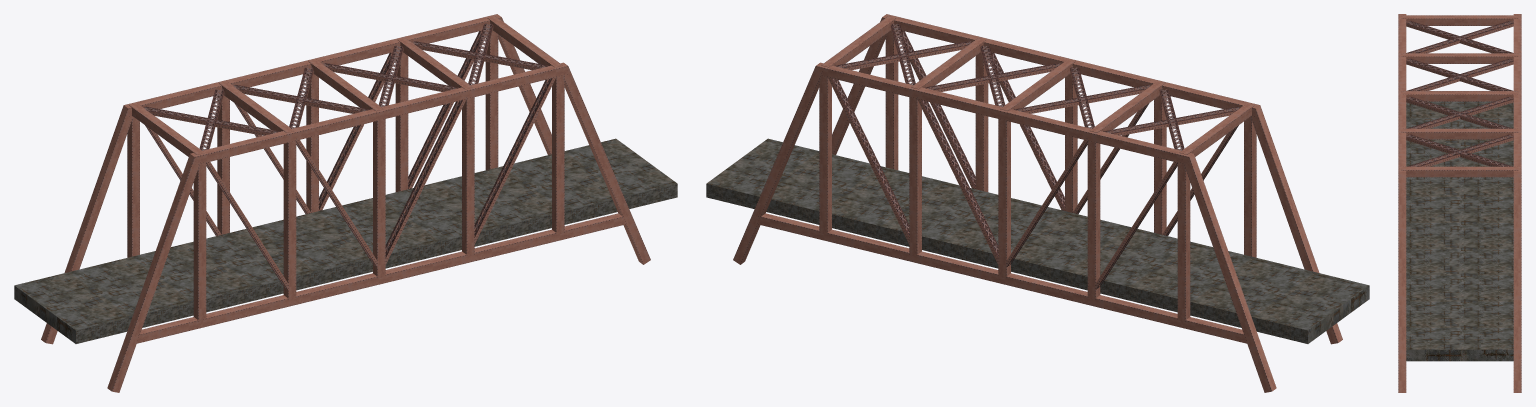
File: Bridge.fbx
3 renders of one model, left to right at view 1: azimuth 30°, elevation 25°; view 2: azimuth 150°, elevation 25°; view 3: azimuth 270°, elevation 25°, orthographic. The views are drawn at different scales.
Visible parts, largest first — view 1: BridgeV2; view 2: BridgeV2; view 3: BridgeV2.
Part boxes in pixels (x1=…): BridgeV2: x1=14, y1=14, x2=677, y2=392; BridgeV2: x1=706, y1=14, x2=1369, y2=392; BridgeV2: x1=1398, y1=14, x2=1521, y2=392.
Size of the model in its own units: 4030 by 1394 by 823.
